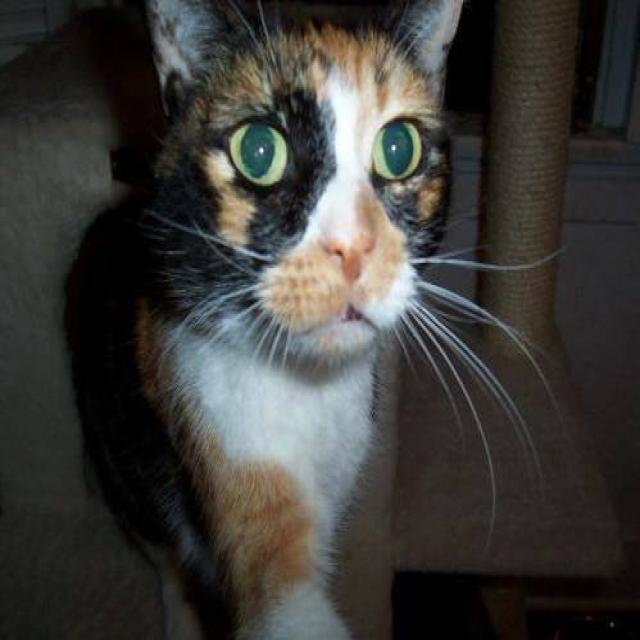cat-eye-normal: (217, 106, 306, 192), (362, 104, 437, 193)
